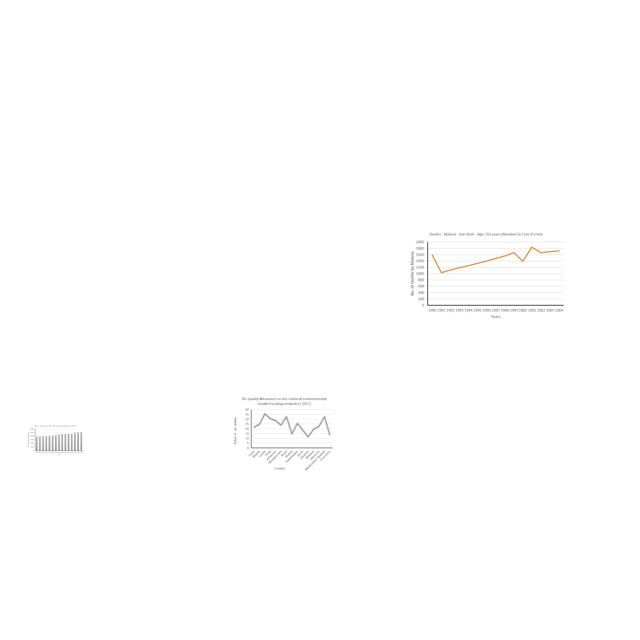Graph: (406, 229, 567, 321), (231, 396, 338, 471), (26, 424, 84, 457)
